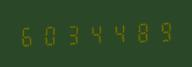eight: (127, 18, 148, 45)
four: (83, 20, 104, 46), (105, 19, 126, 45)
nine: (149, 18, 170, 44)
six: (17, 22, 38, 48)
three: (61, 21, 82, 47)
zero: (39, 21, 60, 48)
